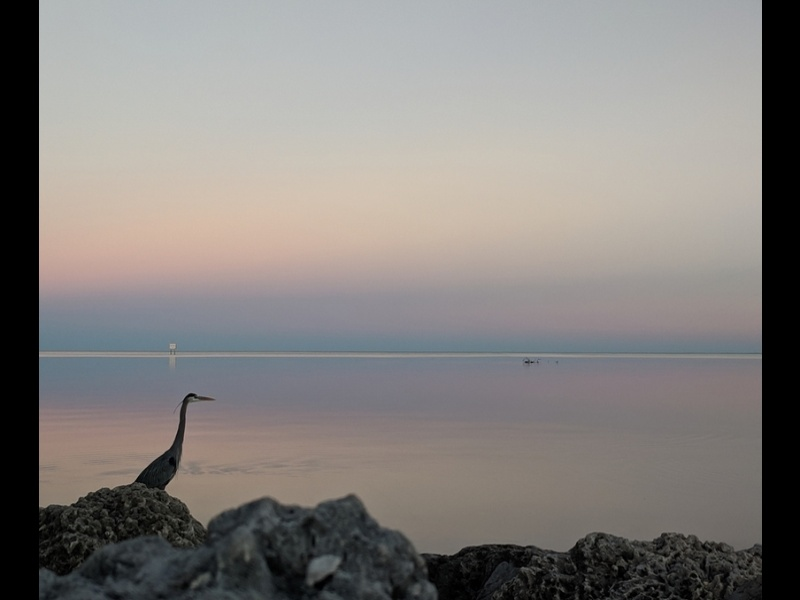heron: (124, 392, 214, 498)
